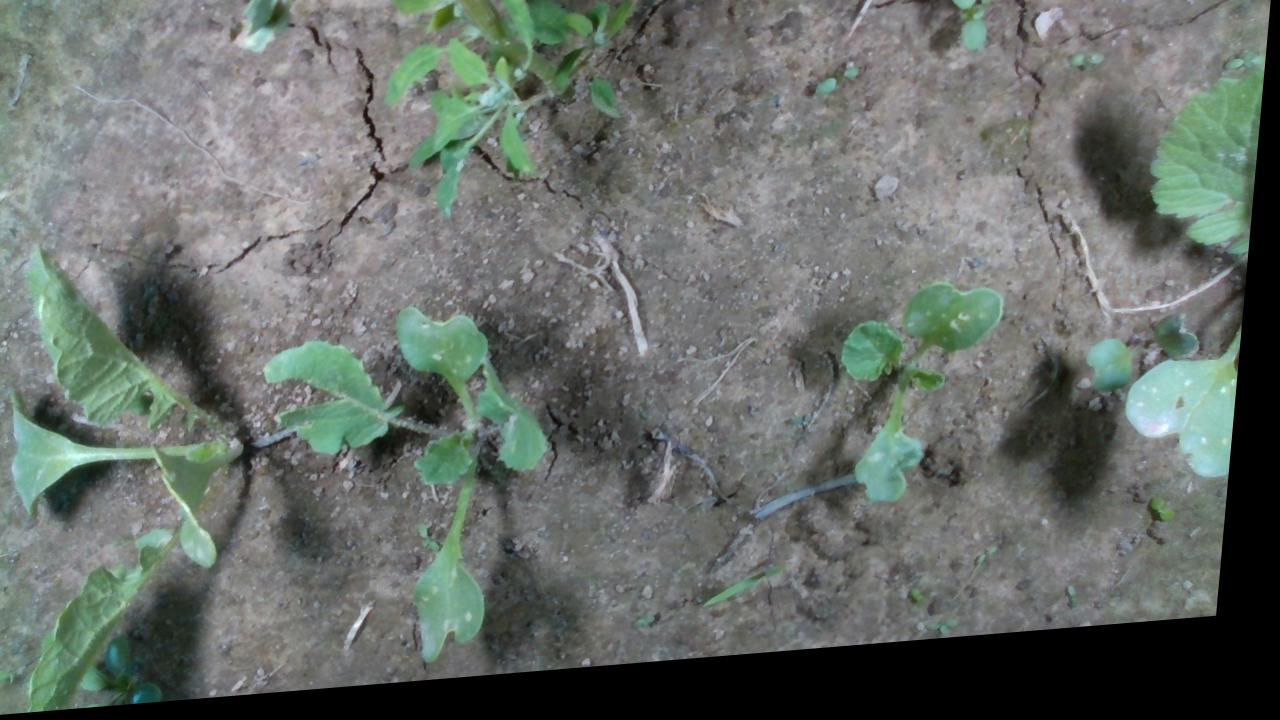weed: (1157, 513, 1189, 545)
